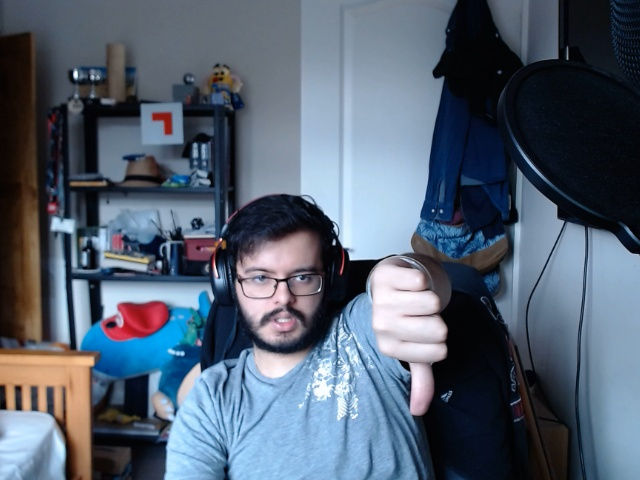Thumbs down: (365, 258, 451, 427)
